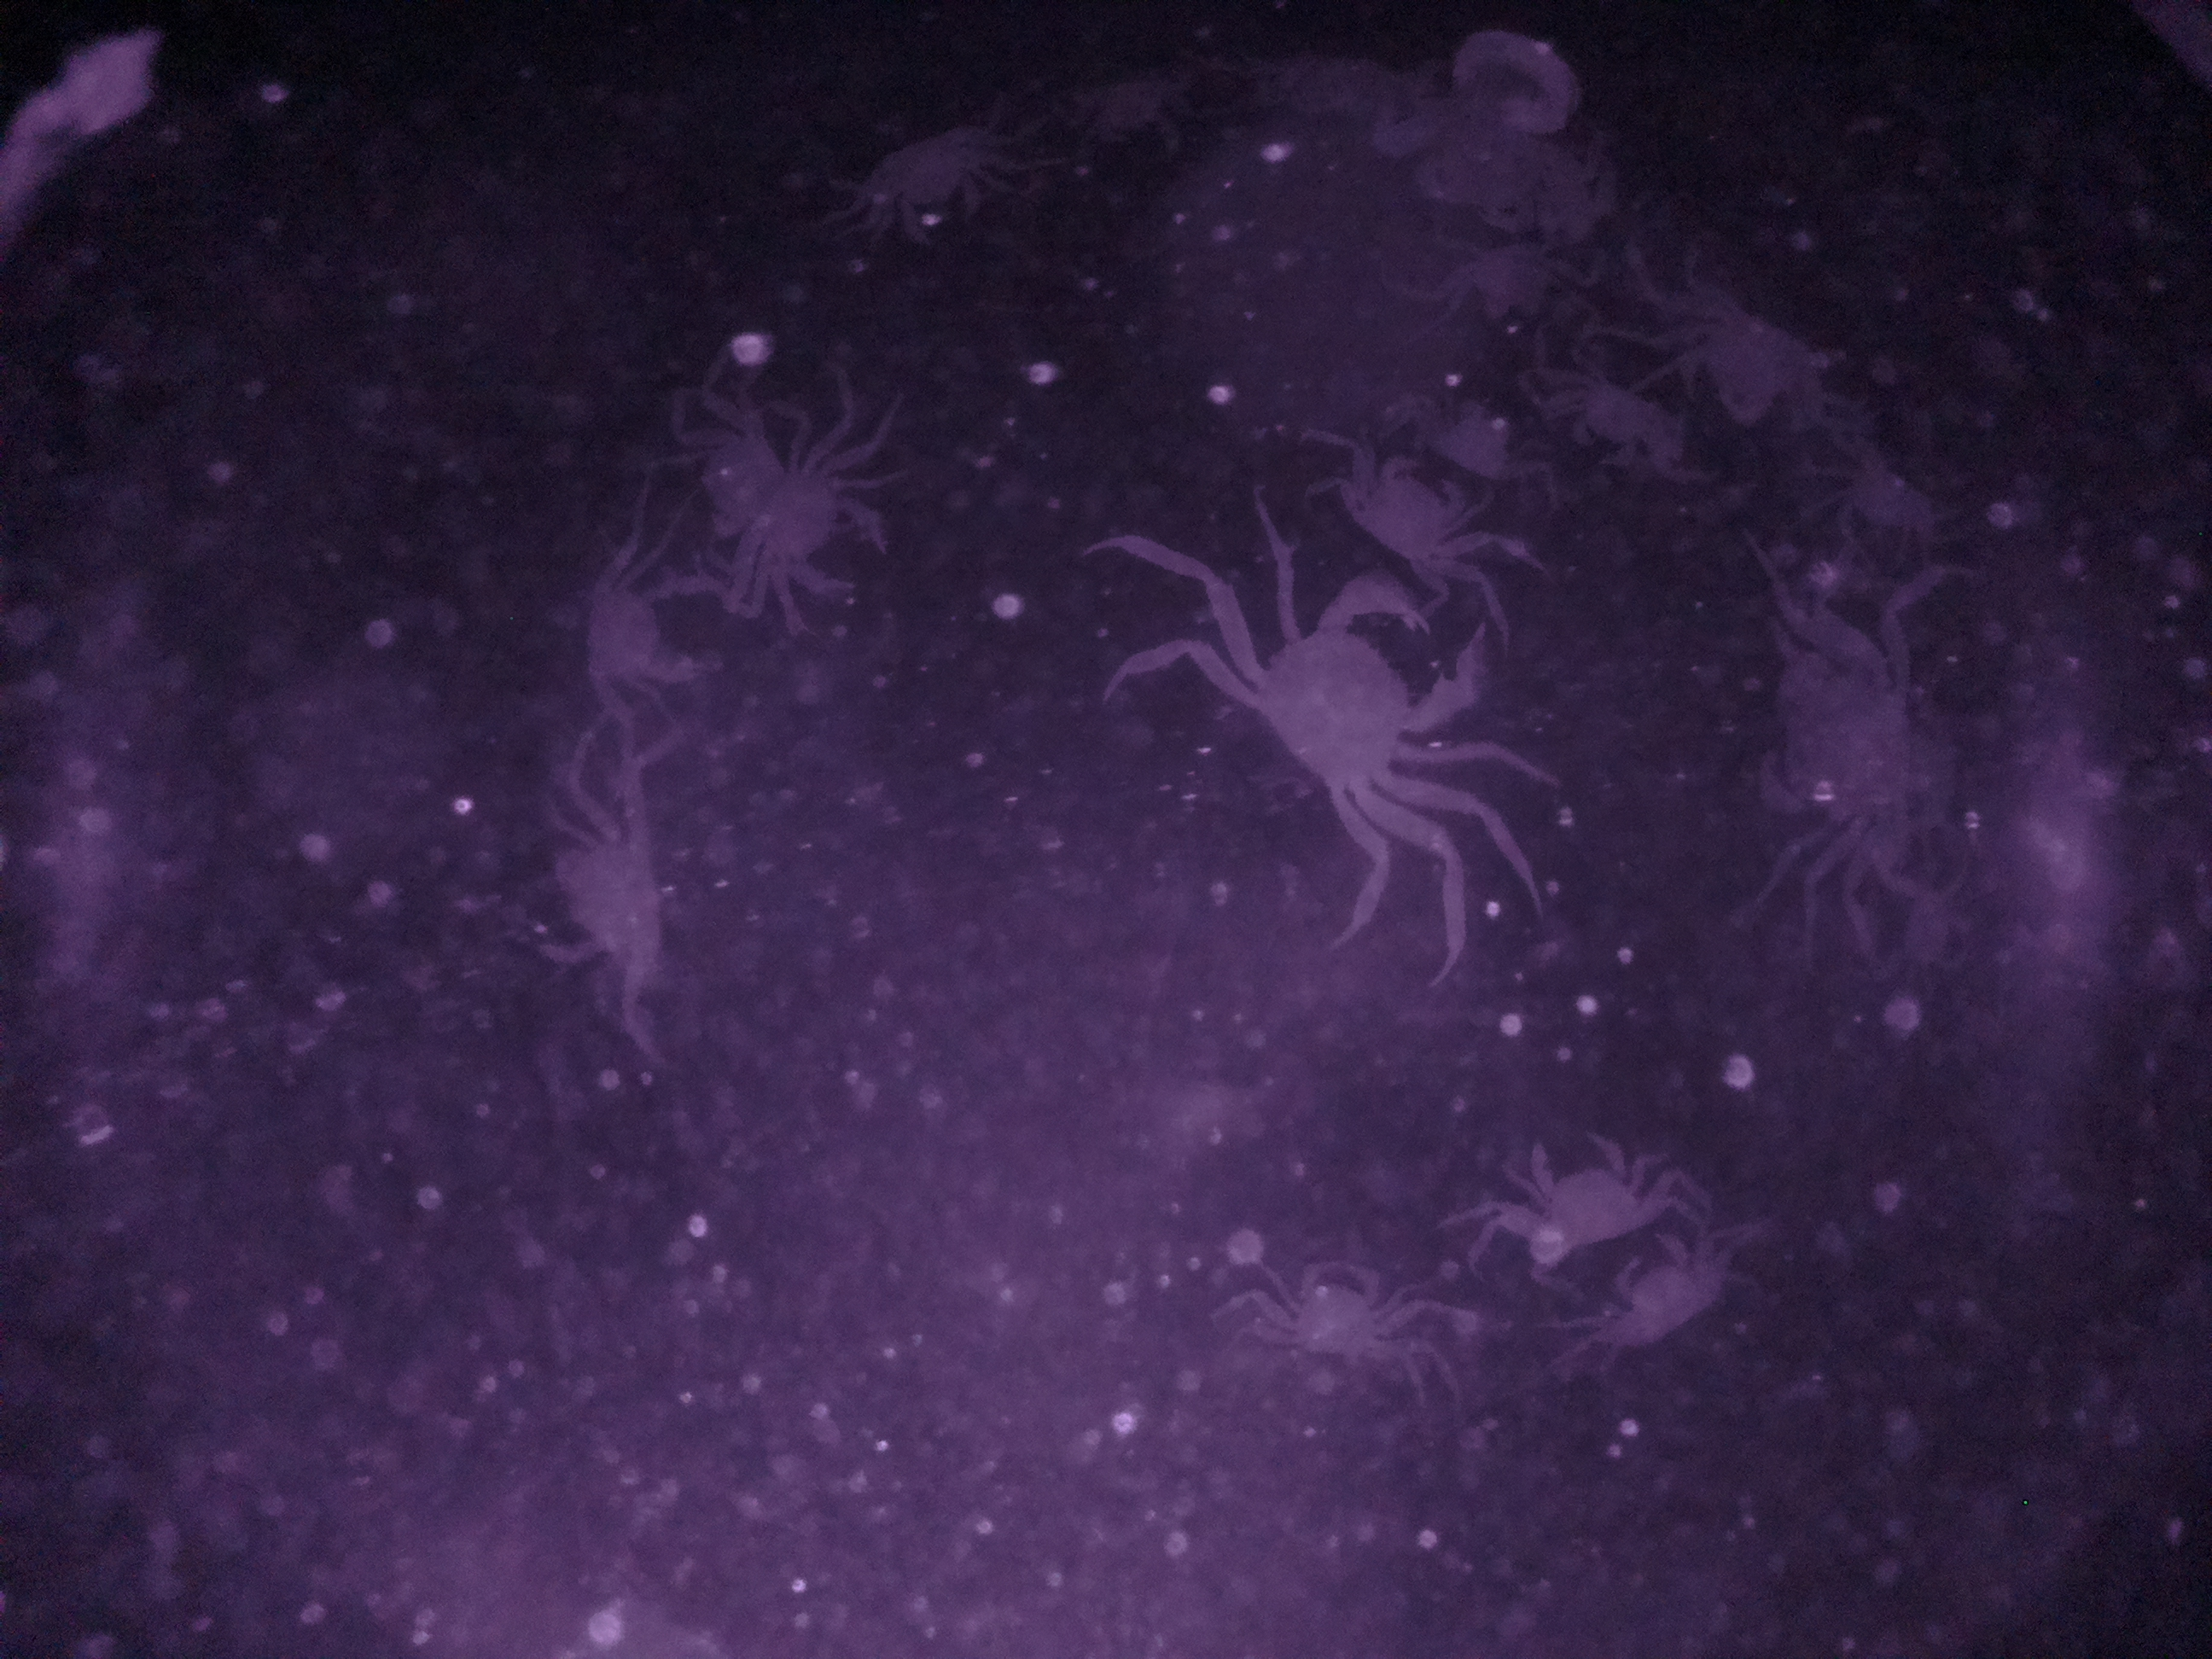Crab: (1216, 573, 1494, 847), (721, 434, 918, 641), (1663, 296, 1862, 430), (570, 521, 709, 708), (855, 113, 1031, 254), (1503, 1121, 1655, 1274), (1338, 443, 1491, 580), (1252, 1249, 1411, 1382)
